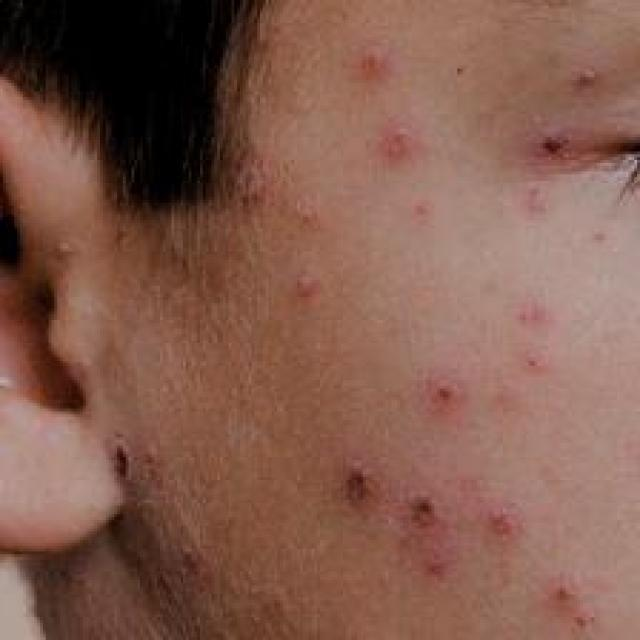others: (231, 28, 637, 640)
